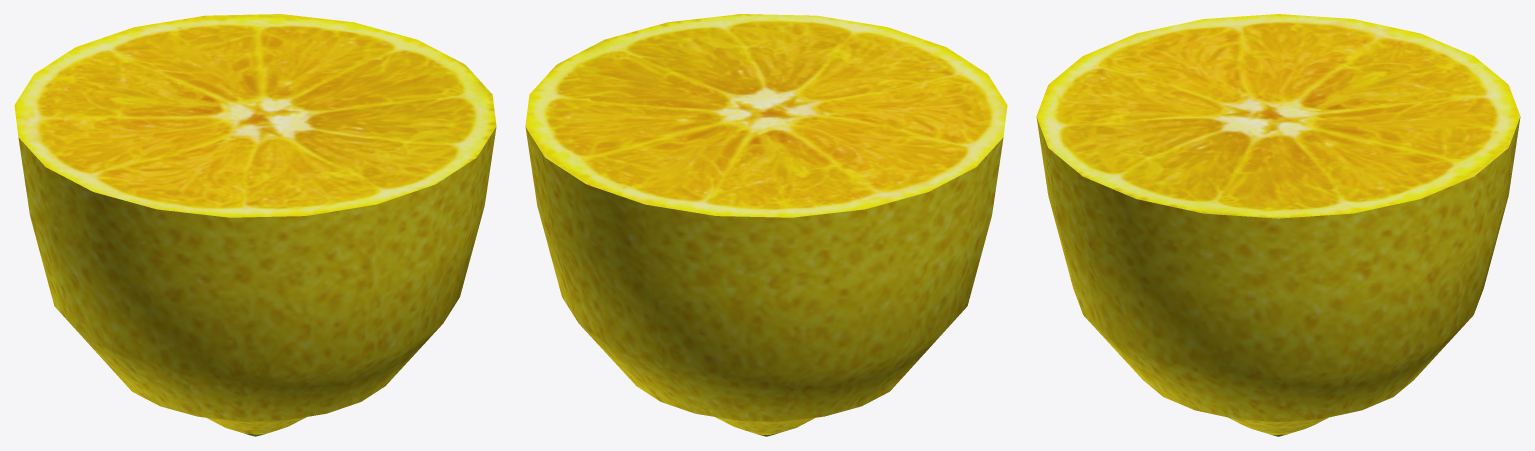
Rendered from lemon_half.FBX.
3 renders of one model, left to right at view 1: azimuth 30°, elevation 25°; view 2: azimuth 150°, elevation 25°; view 3: azimuth 270°, elevation 25°, orthographic.
Visible parts, largest first — view 1: lemon_cut; view 2: lemon_cut; view 3: lemon_cut.
Boxes of the visible parts, <box> form: lemon_cut: <box>14,14,496,436</box>; lemon_cut: <box>525,14,1007,436</box>; lemon_cut: <box>1036,14,1520,436</box>.
Bounding box in the file's own units: 6.01 × 4.39 × 6.01.
Materials: 1 (1 with a texture image).
